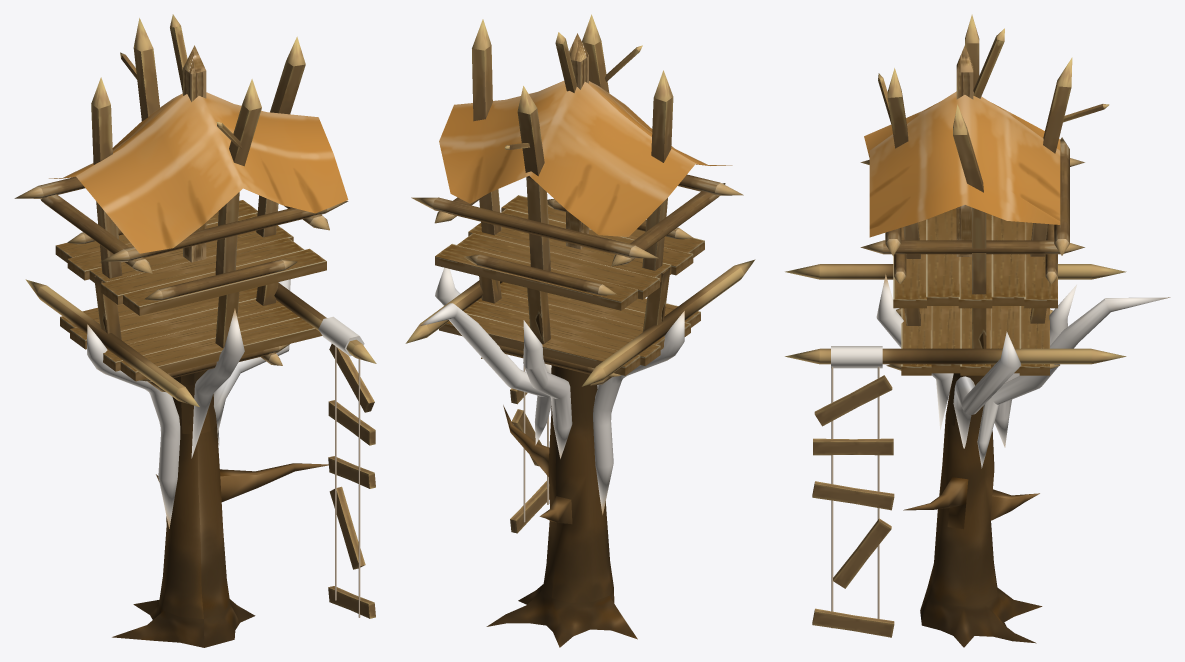
File: treeWatchtower.fbx
The picture shows the model from 3 angles, left to right: view 1: azimuth 30°, elevation 25°; view 2: azimuth 150°, elevation 25°; view 3: azimuth 270°, elevation 25°; orthographic projection.
Parts seen in each view (by area): view 1: tree, watchtower, watchtowerBox019; view 2: tree, watchtower, watchtowerBox019; view 3: tree, watchtower, watchtowerBox019.
Boxes of the visible parts, x1,y1,x2,y2 form: tree: (25,92,376,647); watchtower: (14,14,375,618); watchtowerBox019: (183,45,206,262); tree: (405,81,755,647); watchtower: (411,14,743,533); watchtowerBox019: (566,33,588,249); tree: (785,91,1170,647); watchtower: (812,14,1109,637); watchtowerBox019: (956,45,973,256).
Bounding box in the file's own units: 242 × 546 × 324.
Materials: 2 (2 with a texture image).
